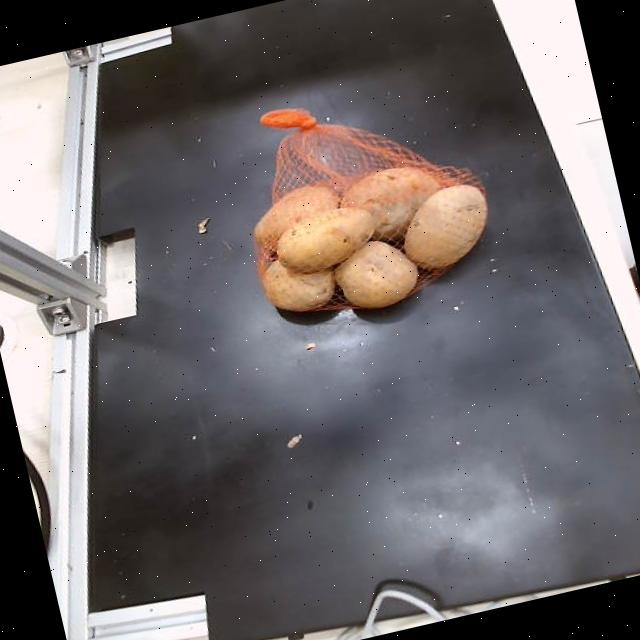potato: (340, 167, 440, 241), (403, 184, 486, 269), (277, 207, 371, 273), (333, 240, 417, 308), (262, 260, 333, 309)
